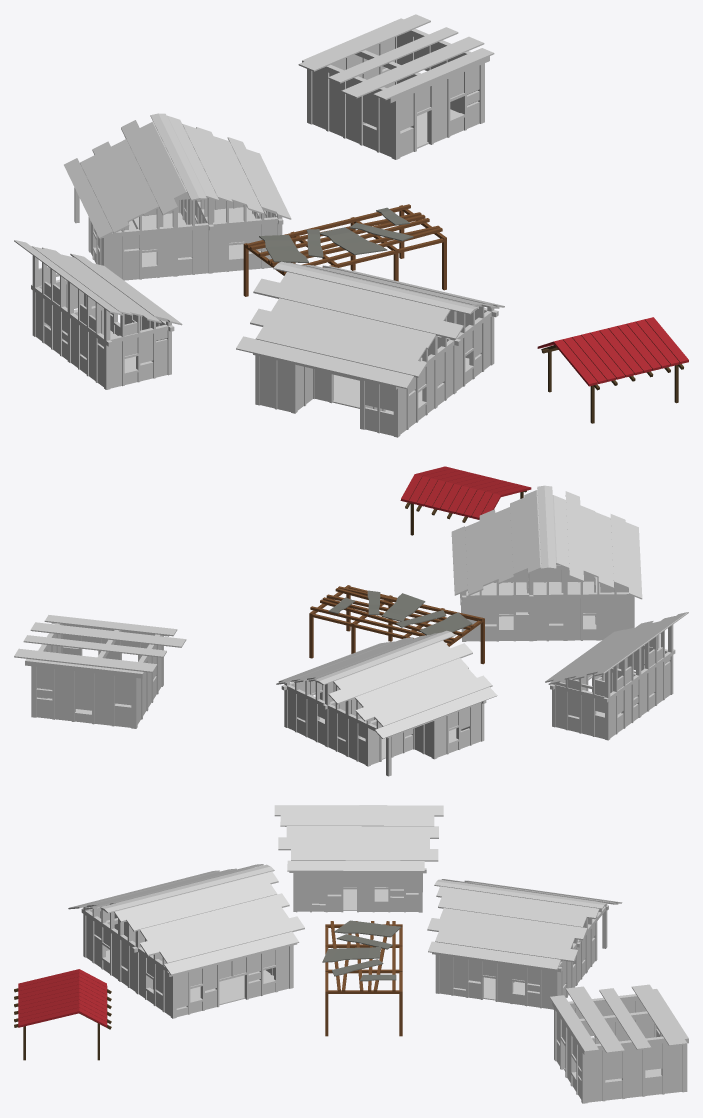
The model's file is wooden_houses.fbx.
The picture shows the model from 3 angles, top to bottom: view 1: azimuth 30°, elevation 25°; view 2: azimuth 150°, elevation 25°; view 3: azimuth 270°, elevation 25°; orthographic projection. The views are drawn at different scales.
Parts seen in each view (by area): view 1: wooden_house03, wooden_house02, wooden_house04, wooden_house01, wooden_structure02, wooden_structure01; view 2: wooden_house03, wooden_house02, wooden_house04, wooden_house01, wooden_structure02, wooden_structure01; view 3: wooden_house03, wooden_house02, wooden_house01, wooden_house04, wooden_structure02, wooden_structure01.
Part boxes in pixels (left/top/right/bottom): wooden_house03: left=236, top=261, right=504, bottom=437; wooden_house02: left=64, top=113, right=291, bottom=280; wooden_house04: left=298, top=14, right=494, bottom=159; wooden_house01: left=14, top=240, right=182, bottom=389; wooden_structure02: left=243, top=204, right=446, bottom=296; wooden_structure01: left=537, top=317, right=688, bottom=423; wooden_house03: left=451, top=485, right=642, bottom=641; wooden_house02: left=276, top=630, right=497, bottom=776; wooden_house04: left=14, top=615, right=186, bottom=728; wooden_house01: left=545, top=612, right=688, bottom=740; wooden_structure02: left=309, top=585, right=484, bottom=664; wooden_structure01: left=400, top=466, right=531, bottom=535; wooden_house03: left=68, top=864, right=304, bottom=1018; wooden_house02: left=427, top=879, right=622, bottom=1009; wooden_house01: left=274, top=805, right=443, bottom=912; wooden_house04: left=550, top=984, right=688, bottom=1103; wooden_structure02: left=322, top=920, right=402, bottom=1036; wooden_structure01: left=14, top=969, right=111, bottom=1060.
Bounding box in the file's own units: 4481 × 743 × 5347.
